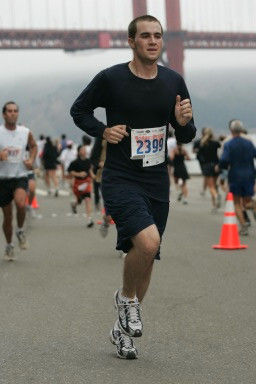person: (73, 17, 199, 359), (1, 104, 38, 259)
